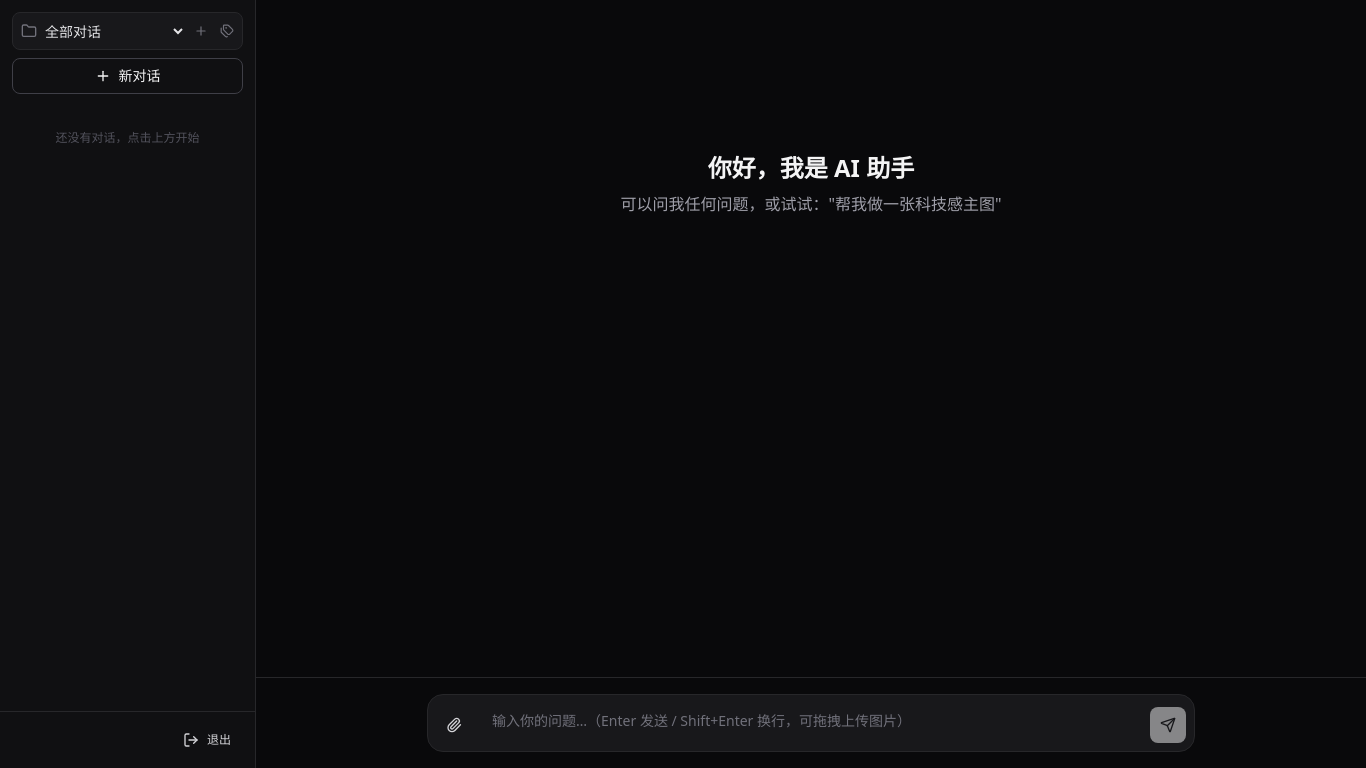
ChatWorkspace 消息流（SSE 解析 → 渲染） › message_end(completed) 收流：状态转完成、光标与思考态消失
The width and height of the screenshot is (1366, 768).
Expected: the button "新对话" is shown, 12,58 -> 243,94
Type "你好" into the text box with placeholder "输入你的问题…（Enter 发送 / Shift+Enter 换行，可拖拽上传图片）" at point(811, 723), box 480,703 -> 1142,743
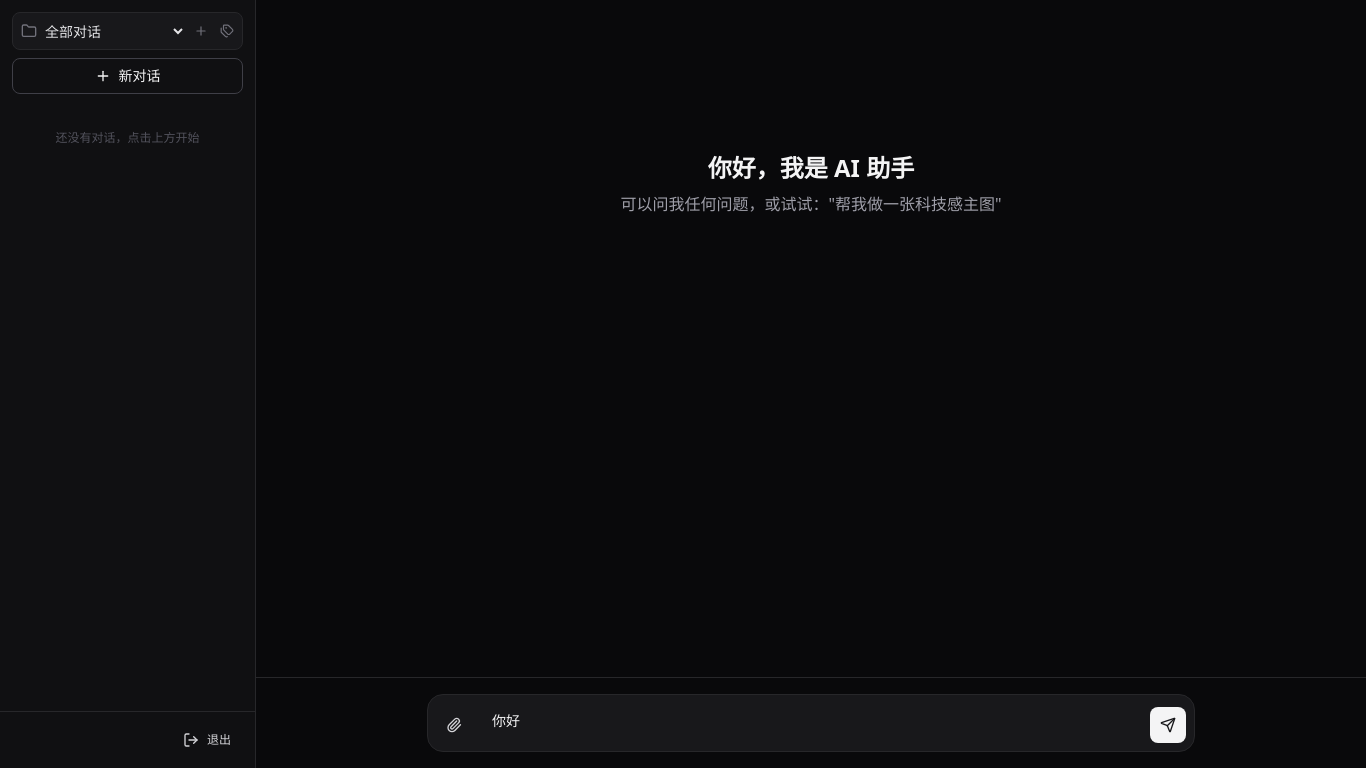
Click the button titled "发送" at point(1168, 725), box 1150,707 -> 1186,743
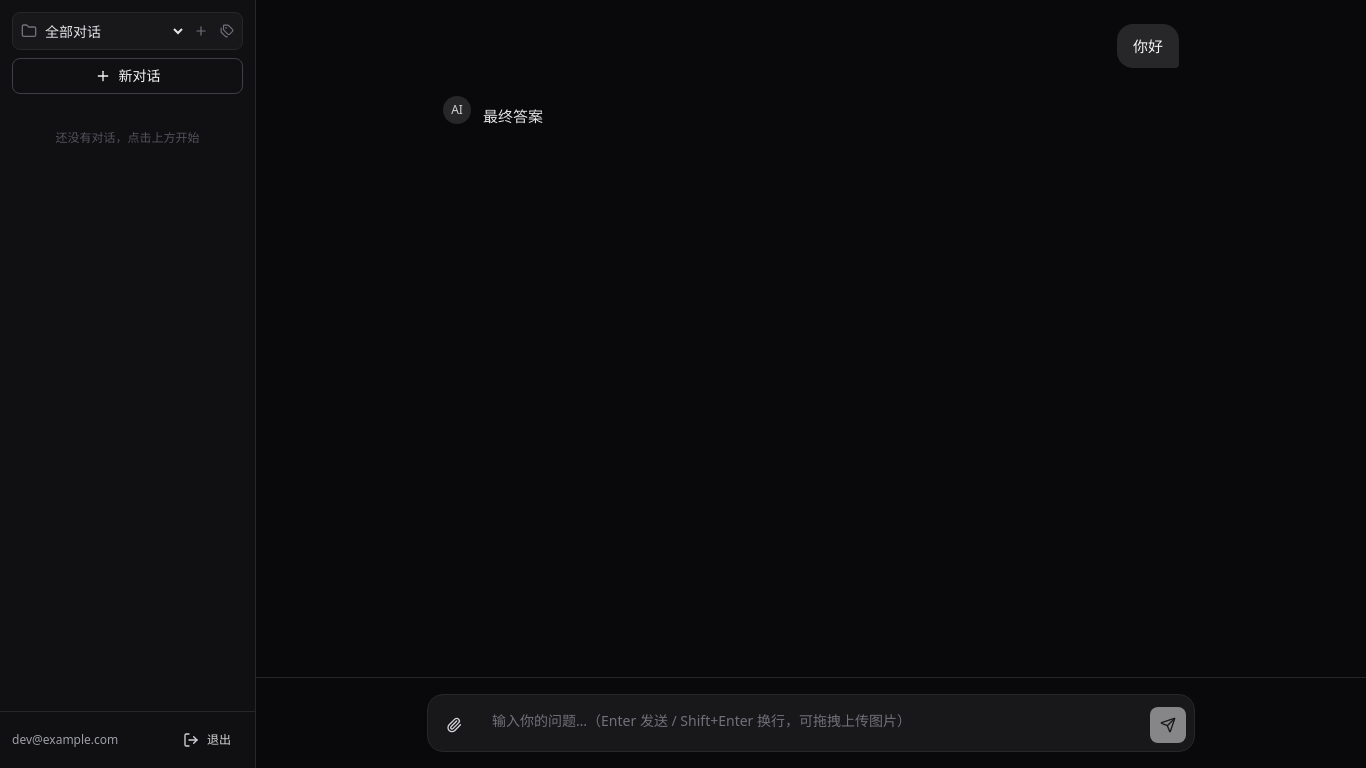
Result: the text "最终答案" is shown at 483,106 -> 543,126
